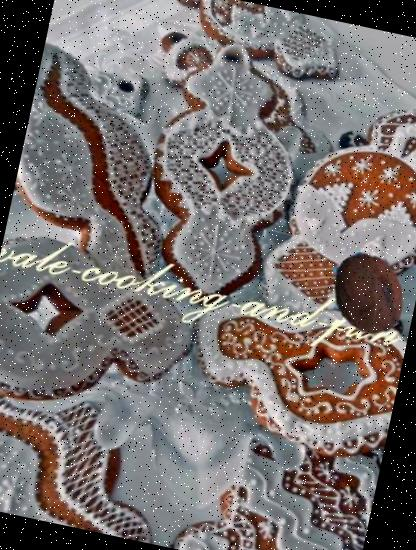Cocos: (317, 244, 416, 344)
